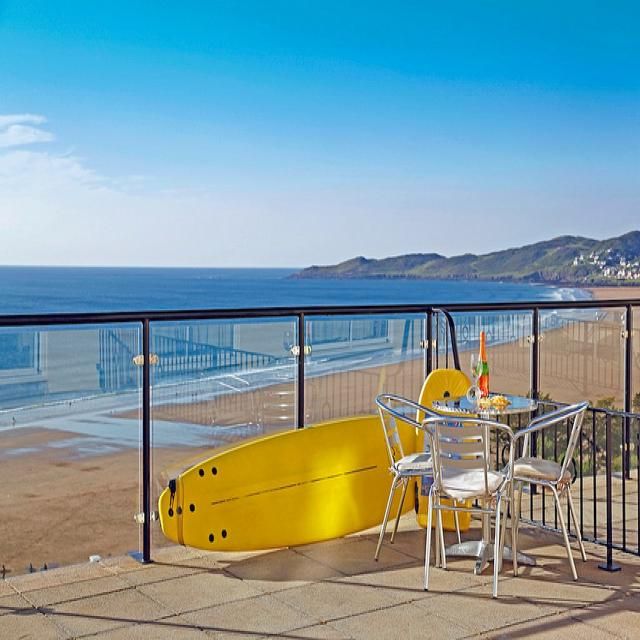chair: (423, 417, 518, 601), (516, 399, 586, 577), (374, 392, 442, 561)
dining table: (433, 391, 537, 413)
